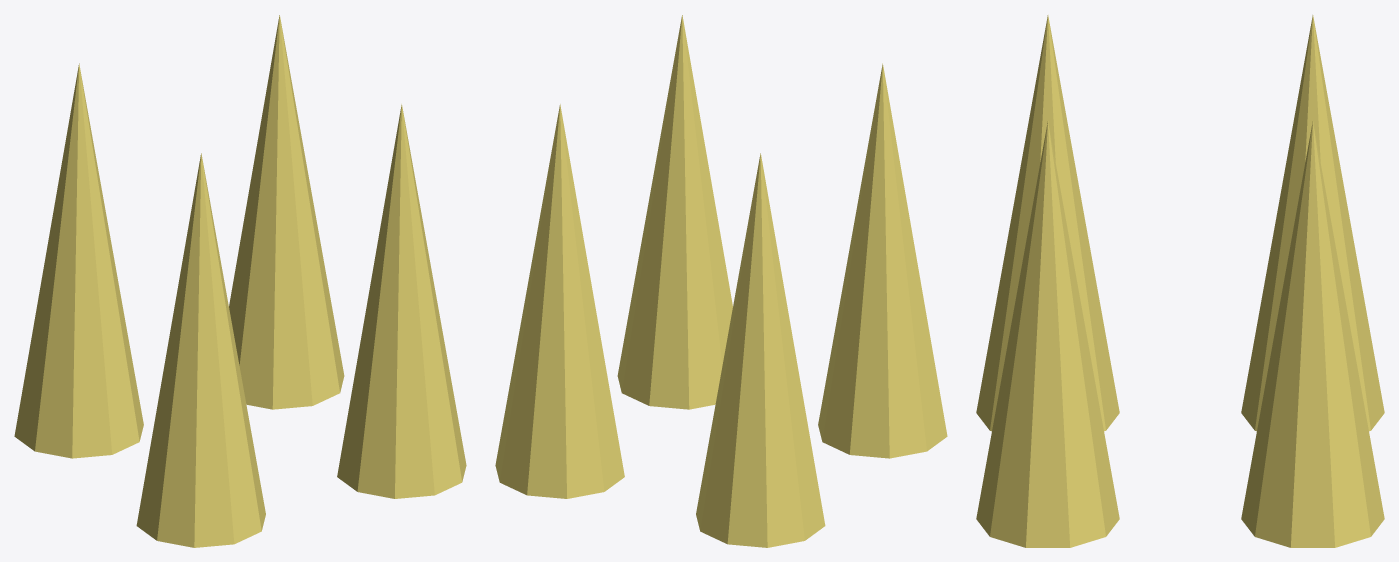
File: SpikeGimmicUpper.fbx
The picture shows the model from 3 angles, left to right: view 1: azimuth 30°, elevation 25°; view 2: azimuth 150°, elevation 25°; view 3: azimuth 270°, elevation 25°; orthographic projection. The views are drawn at different scales.
Parts seen in each view (by area): view 1: Mesh; view 2: Mesh; view 3: Mesh.
Part boxes in pixels (box(x1,y1,x2,y2)): Mesh: box(14, 15, 466, 547); Mesh: box(495, 15, 947, 547); Mesh: box(976, 15, 1384, 547).
Bounding box in the file's own units: 0.6537 × 0.7423 × 0.6888.
